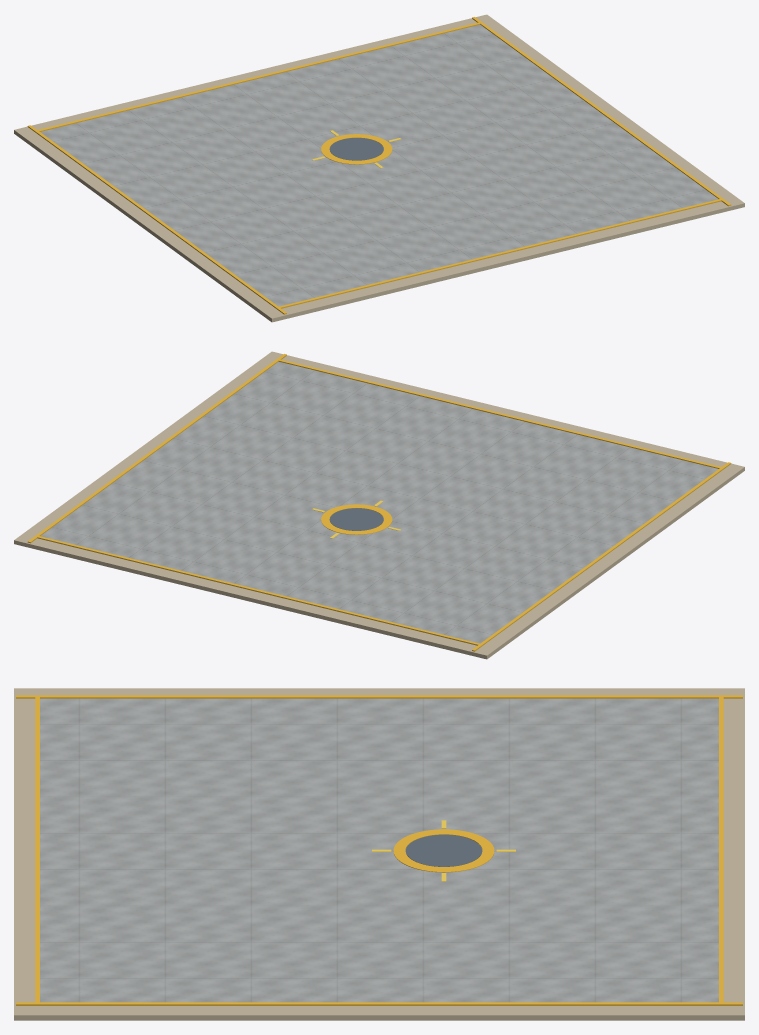
File: ENERGY-001.glb
The picture shows the model from 3 angles, top to bottom: view 1: azimuth 30°, elevation 25°; view 2: azimuth 150°, elevation 25°; view 3: azimuth 270°, elevation 25°; orthographic projection. The views are drawn at different scales.
Parts seen in each view (by area): view 1: ENERGY-001; view 2: ENERGY-001; view 3: ENERGY-001.
Part boxes in pixels (box(x1,y1,x2,y2)): ENERGY-001: box(14, 14, 744, 322); ENERGY-001: box(14, 351, 744, 659); ENERGY-001: box(14, 688, 744, 1020).
Bounding box in the file's own units: 36 × 0.38 × 34.
5 materials, 1 textured.
